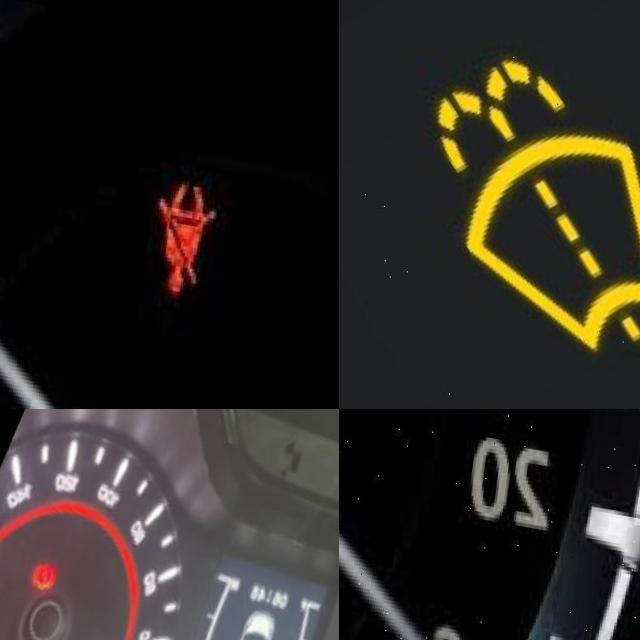Seat Belt: (157, 159, 224, 281)
Washer Fluid: (421, 38, 640, 341)
